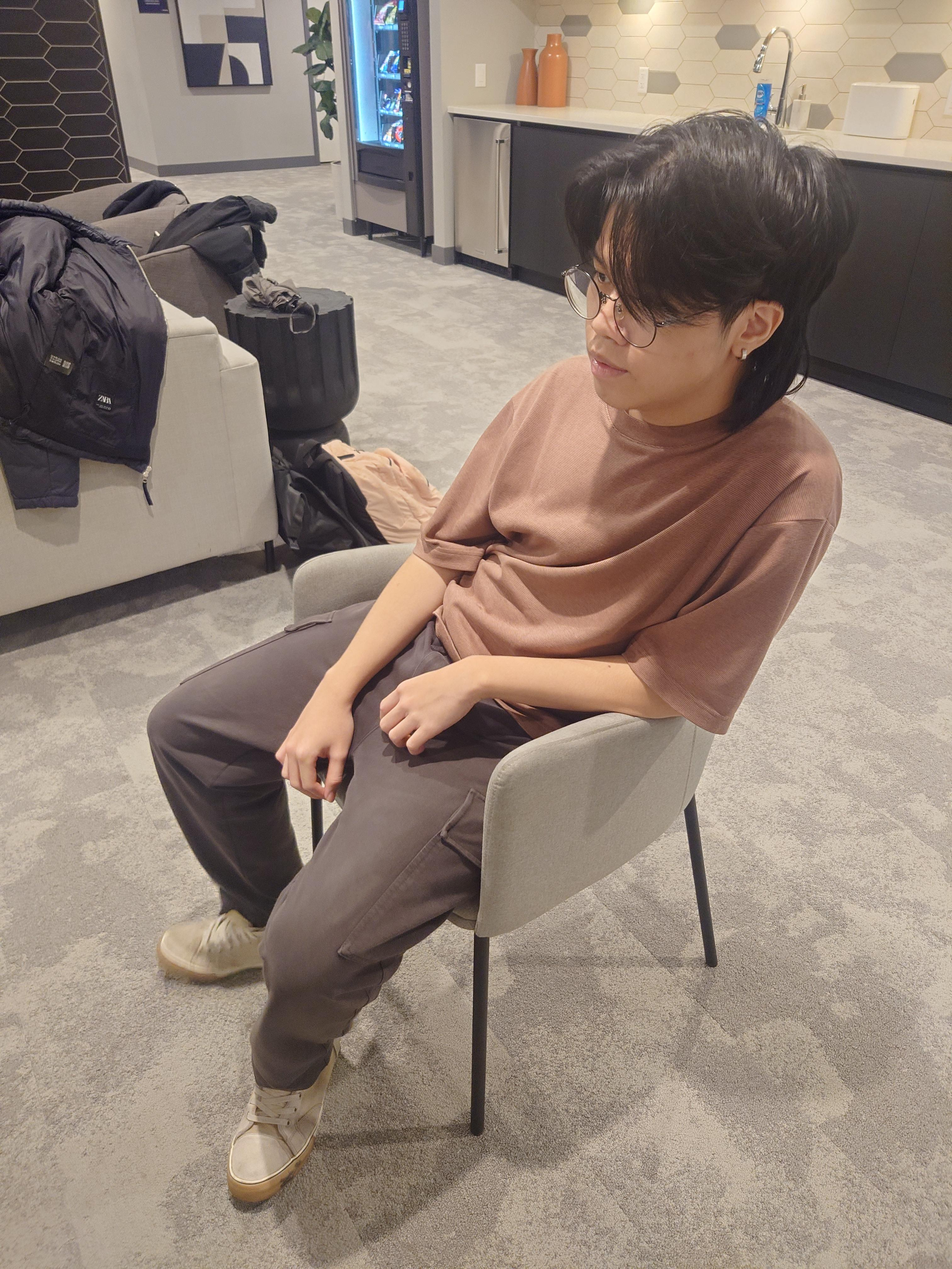BadPosture: (143, 112, 853, 1208)
